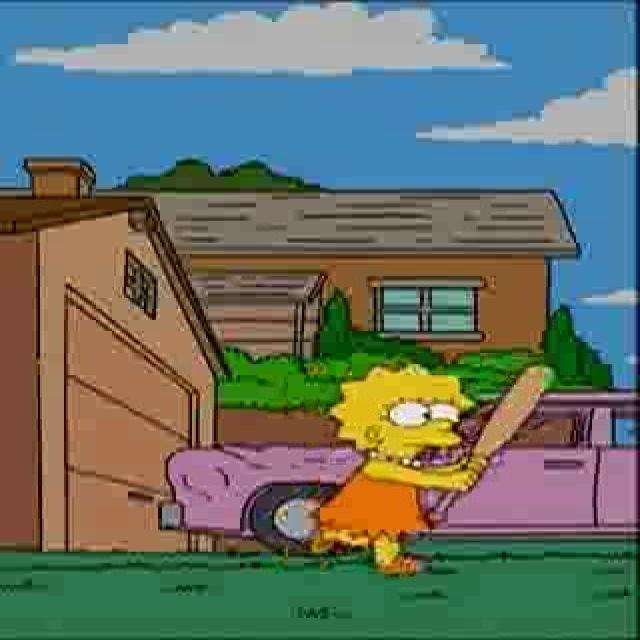Lisa Simpson: (328, 361, 480, 464)
